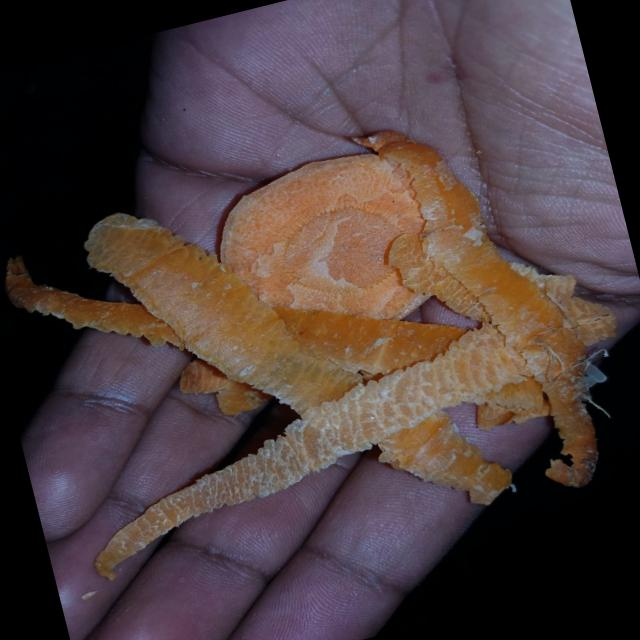organic: (0, 82, 640, 609)
